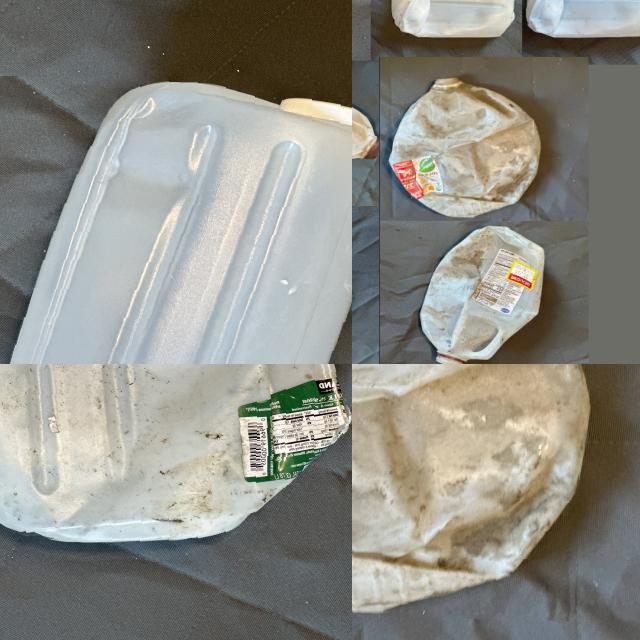milk-jug: (0, 78, 352, 364), (0, 364, 352, 544), (352, 364, 585, 618), (391, 78, 546, 218), (420, 228, 549, 356), (387, 0, 518, 39), (529, 0, 640, 38)
